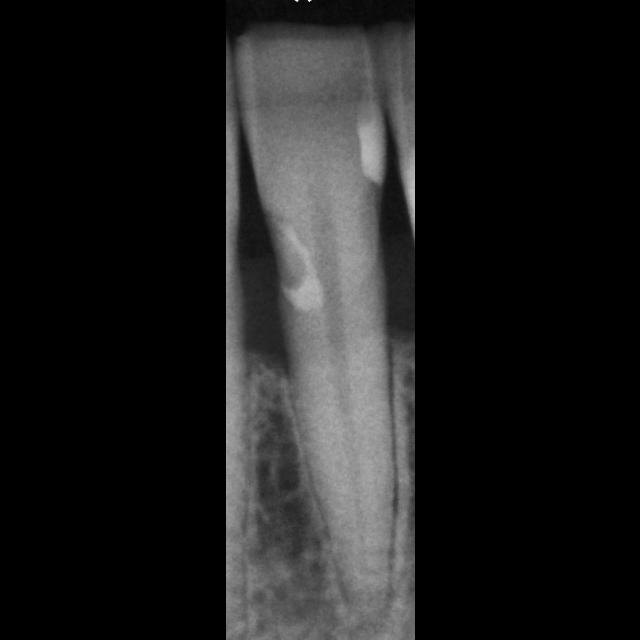tooth: (236, 23, 395, 623)
